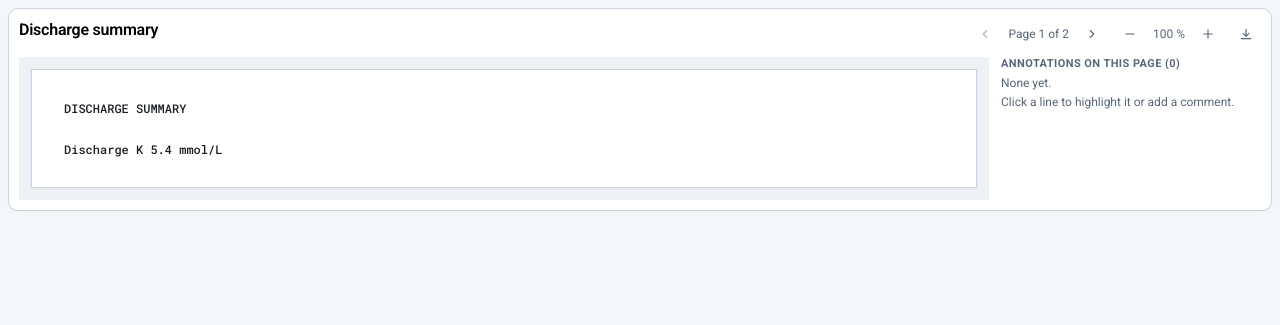
Test case: DocumentViewer › comments on a line and highlights another
Click the button "Discharge K 5.4 mmol/L" at (143, 149), box [64,139,944,159]
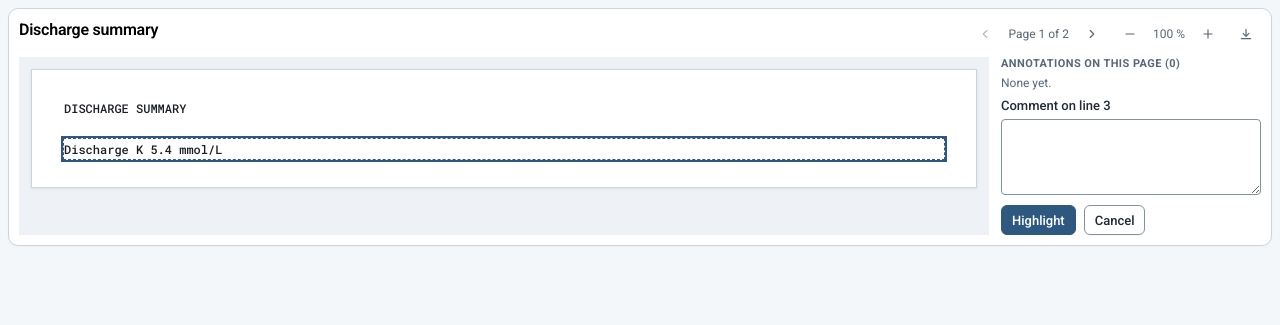
Type "Recheck K" into the text box labelled "Comment on line 3" at (1131, 157), box [1001,119,1261,195]
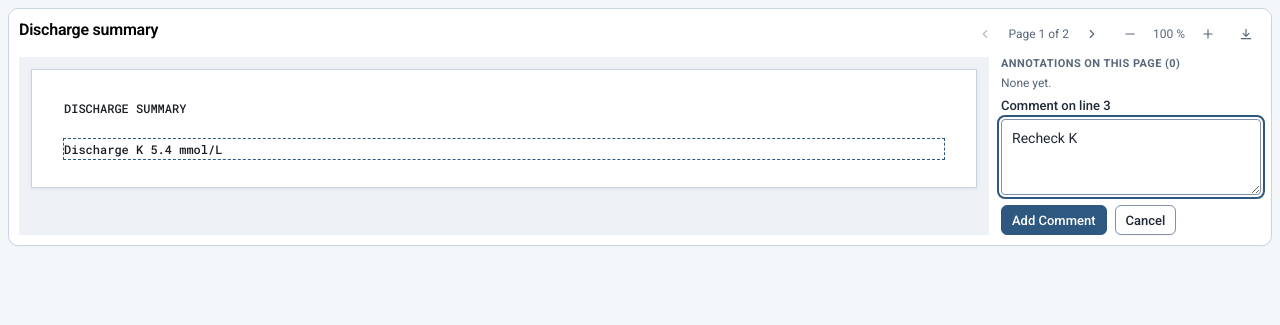
Click the button "Add Comment" at (1054, 220), box [1001,205,1106,235]
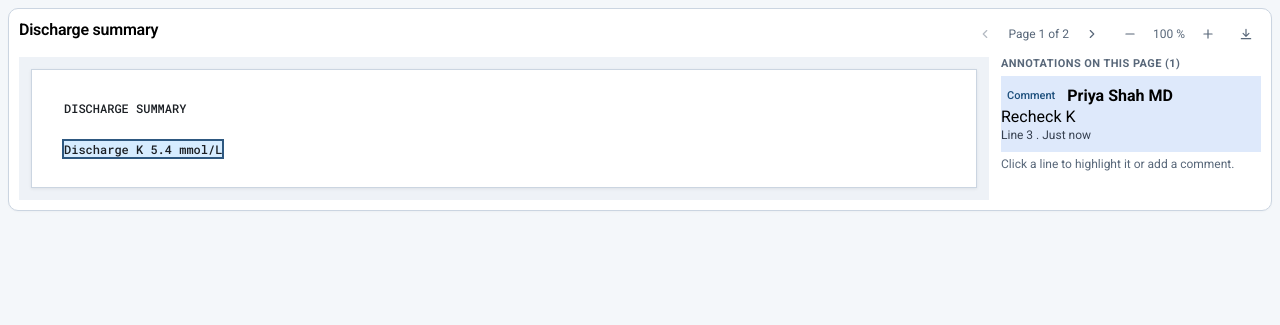
Now the element "Annotations" shows "Annotations on this page (1)", box [1001,57,1180,70]
Now the text "Recheck K" is shown, box [1001,107,1076,126]
Click the button named "Blank line 2" at (504, 129), box [64,118,944,139]
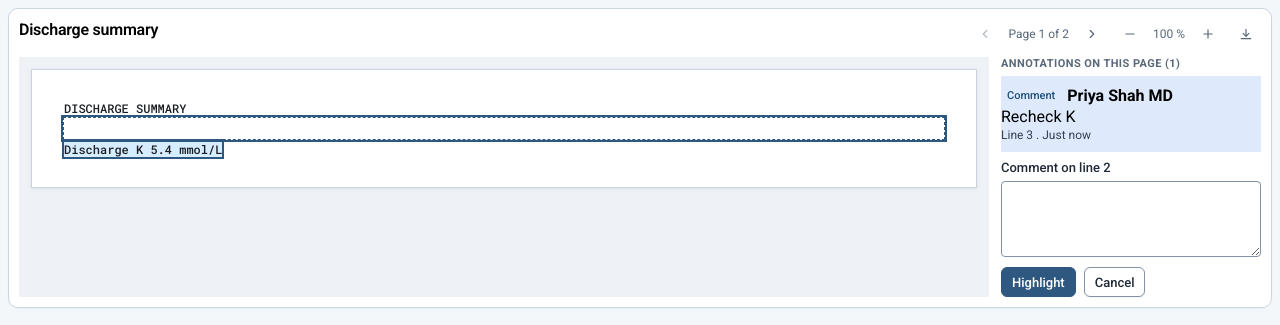
Click the button "Highlight" at (1038, 282), box [1001,267,1076,297]
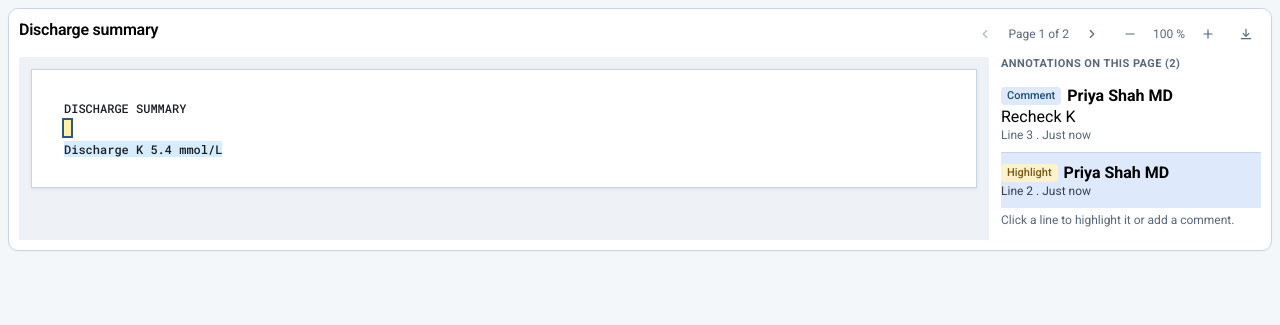
Now the element "Annotations" shows "Annotations on this page (2)", box [1001,57,1180,70]
